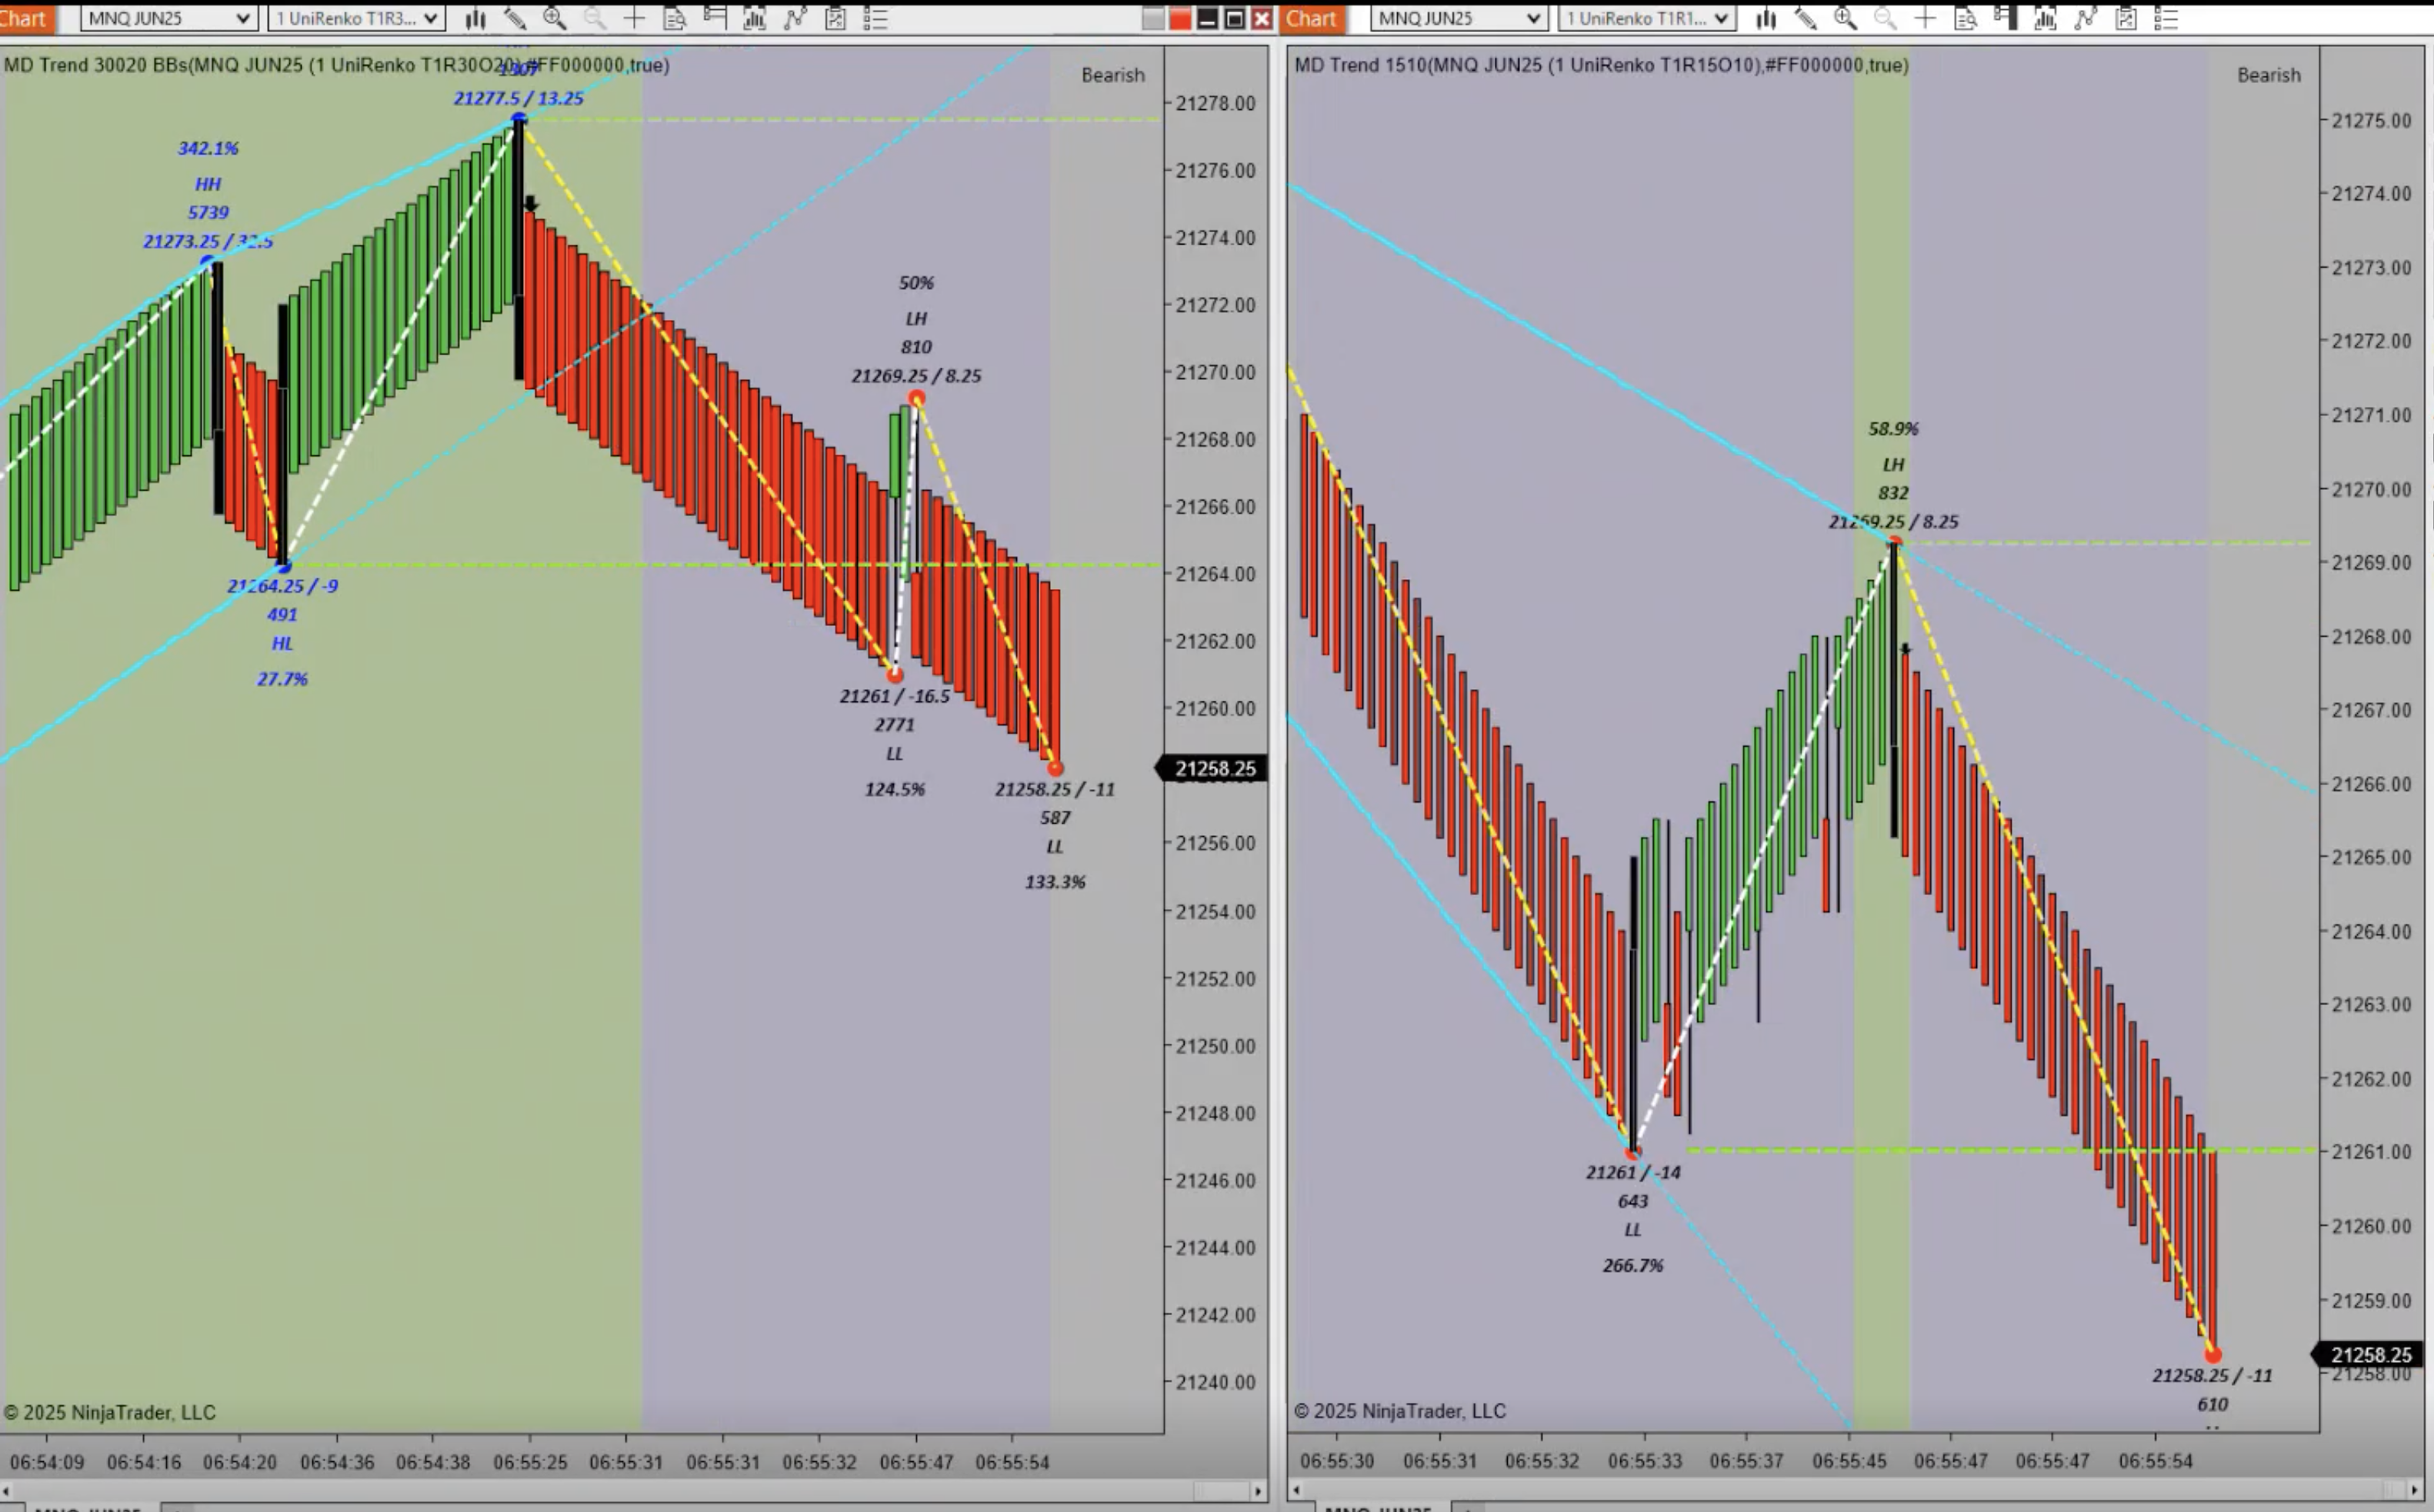candle: (211, 261, 228, 526), (1627, 855, 1643, 1144), (1890, 542, 1904, 847), (510, 120, 526, 390), (277, 303, 289, 578)
